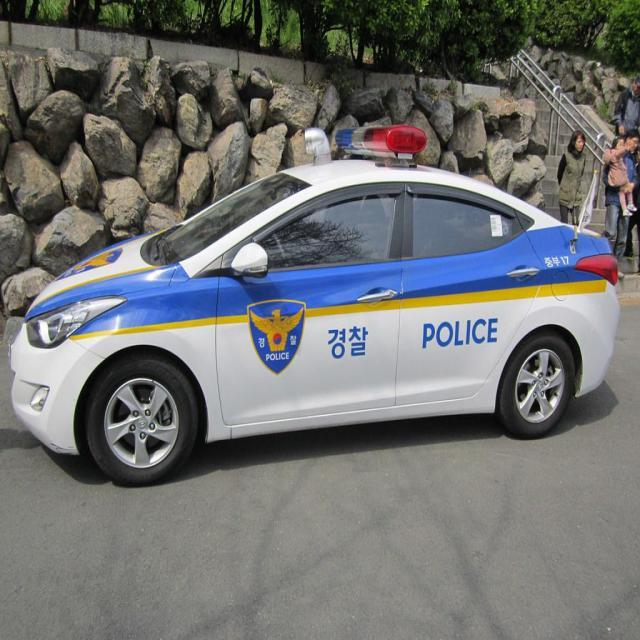fire_truck: (11, 125, 622, 467)
